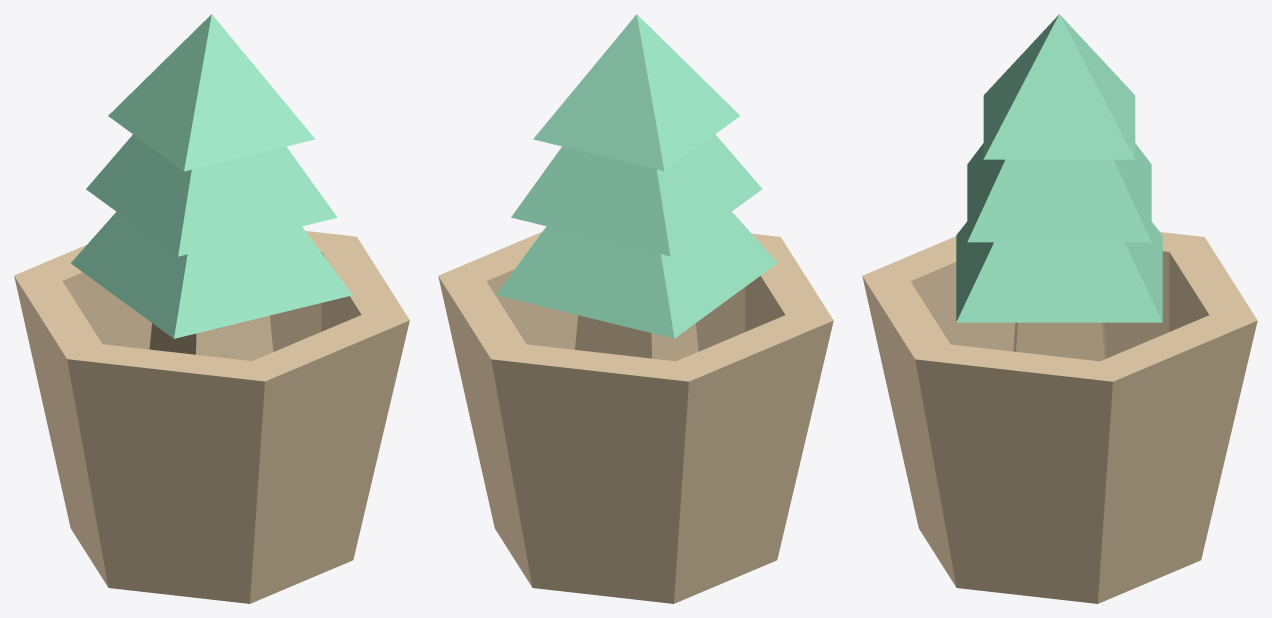
File: plantSmall1.glb
The picture shows the model from 3 angles, left to right: view 1: azimuth 30°, elevation 25°; view 2: azimuth 150°, elevation 25°; view 3: azimuth 270°, elevation 25°; orthographic projection.
Parts seen in each view (by area): view 1: plantSmall1; view 2: plantSmall1; view 3: plantSmall1.
Part boxes in pixels (x1=…): plantSmall1: x1=14, y1=14, x2=409, y2=603; plantSmall1: x1=438, y1=14, x2=833, y2=603; plantSmall1: x1=862, y1=14, x2=1257, y2=603.
Size of the model in its own units: 0.9466 by 1.4 by 0.9466.
